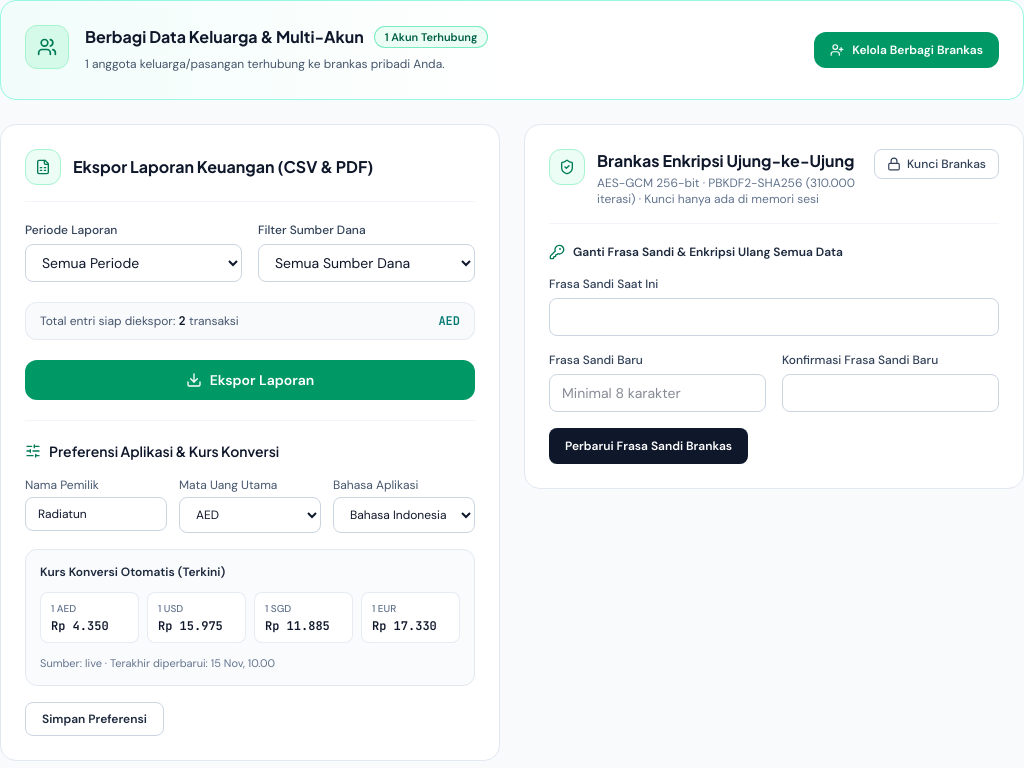
Test: PDF Export, ExportVaultView, CategoryManagerModal & AdcbAccountsView Redesign › ExportVaultView omits removed descriptions, renders sharing hero, and toggles ID/EN language
Expected: the heading "Berbagi Data Keluarga & Multi-Akun" is shown, [85, 25, 364, 49]
Expected: the button "Kelola Berbagi Brankas" is shown, [814, 32, 999, 68]
// Switch language to English via Language selector
Select "English" in the dropdown named "Pilih bahasa aplikasi" at (404,514), box [333, 496, 475, 532]
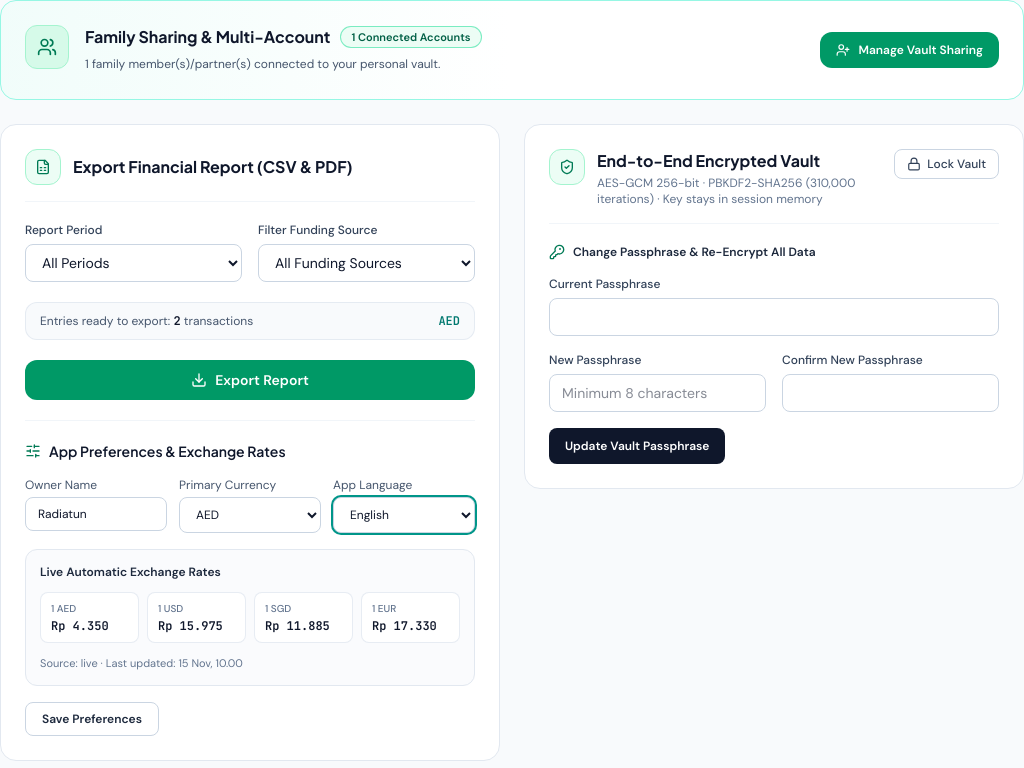
Now the heading "Family Sharing & Multi-Account" is shown, box [85, 25, 330, 49]
Now the button "Manage Vault Sharing" is shown, box [820, 32, 999, 68]
